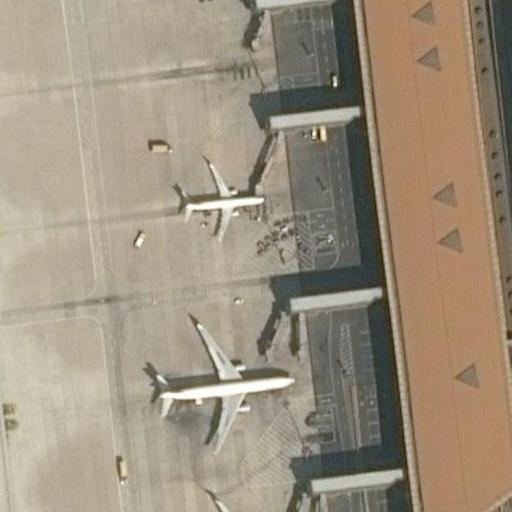Aircraft: (138, 321, 296, 461), (160, 163, 273, 251), (166, 503, 332, 512)
